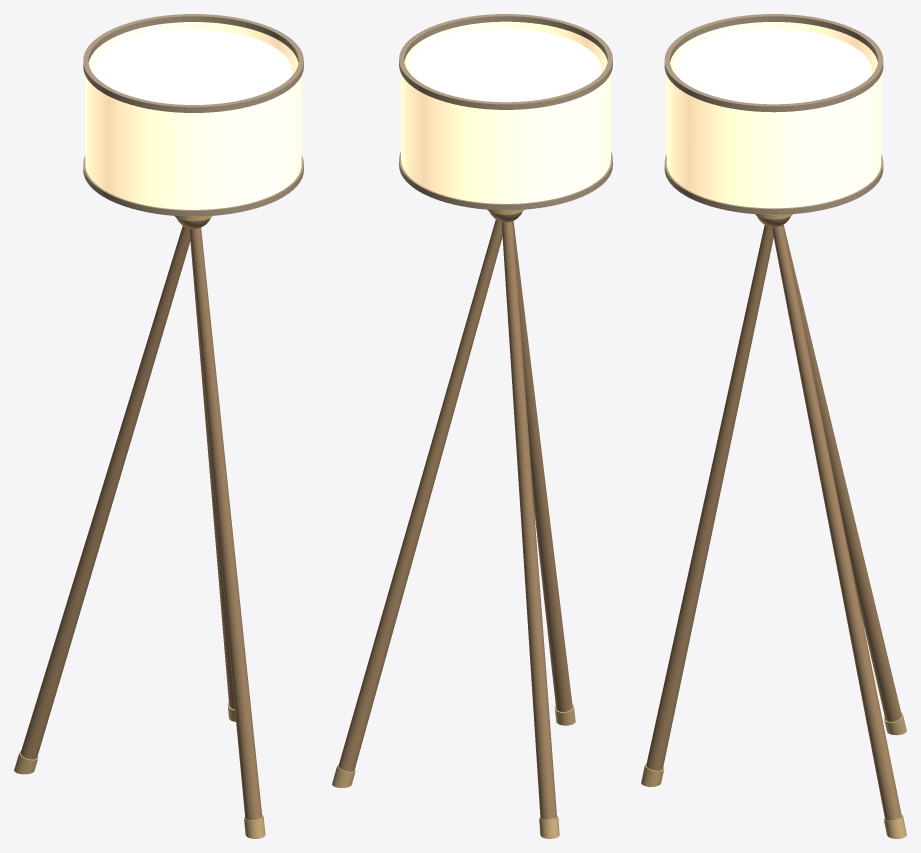
3 views of the same model, side by side, from view 1: azimuth 30°, elevation 25°; view 2: azimuth 150°, elevation 25°; view 3: azimuth 270°, elevation 25° (orthographic). The views are drawn at different scales.
Visible parts, largest first — view 1: F006; view 2: F006; view 3: F006.
Boxes of the visible parts, bbox=[...] form: F006: bbox=[14, 14, 303, 838]; F006: bbox=[332, 14, 612, 838]; F006: bbox=[641, 14, 906, 838].
Size of the model in its own units: 0.508 by 1.52 by 0.508.
